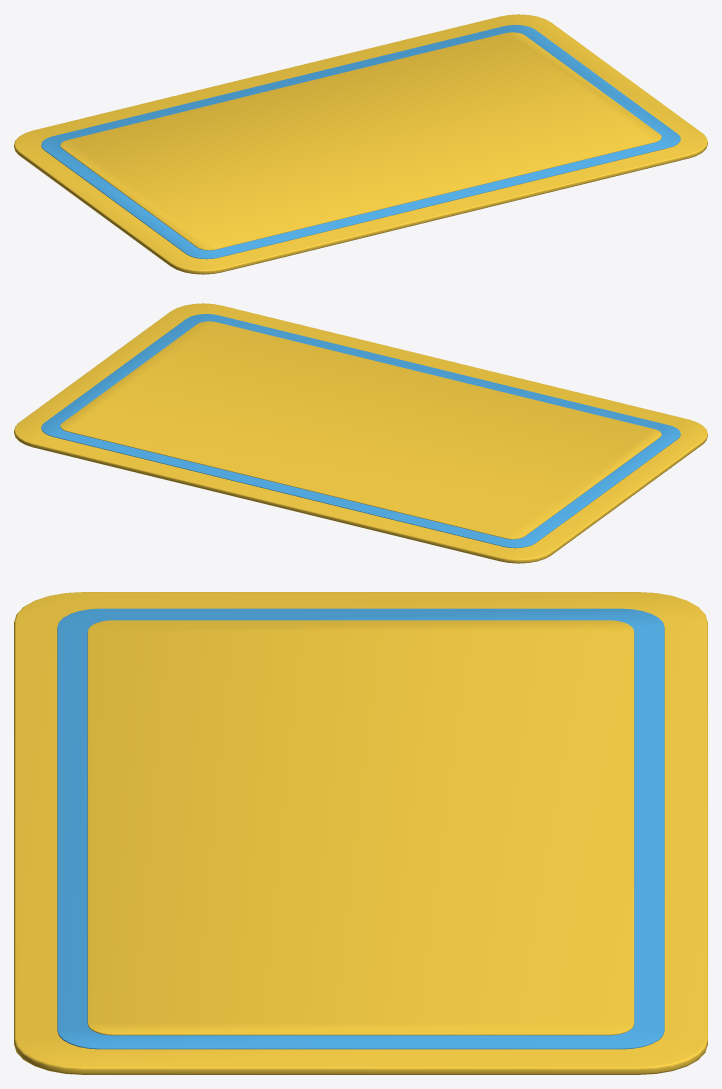
The model's file is tapete_amarelo_moldura_azul.glb.
3 renders of one model, top to bottom at view 1: azimuth 30°, elevation 25°; view 2: azimuth 150°, elevation 25°; view 3: azimuth 270°, elevation 25°, orthographic. The views are drawn at different scales.
Visible parts, largest first — view 1: tapete_amarelo_moldura_azul; view 2: tapete_amarelo_moldura_azul; view 3: tapete_amarelo_moldura_azul.
Part boxes in pixels (x1=…): tapete_amarelo_moldura_azul: x1=14, y1=14, x2=707, y2=274; tapete_amarelo_moldura_azul: x1=14, y1=303, x2=707, y2=563; tapete_amarelo_moldura_azul: x1=14, y1=592, x2=707, y2=1074.
Size of the model in its own units: 1.3 by 0.0132 by 0.8.
1 material, 1 textured.
